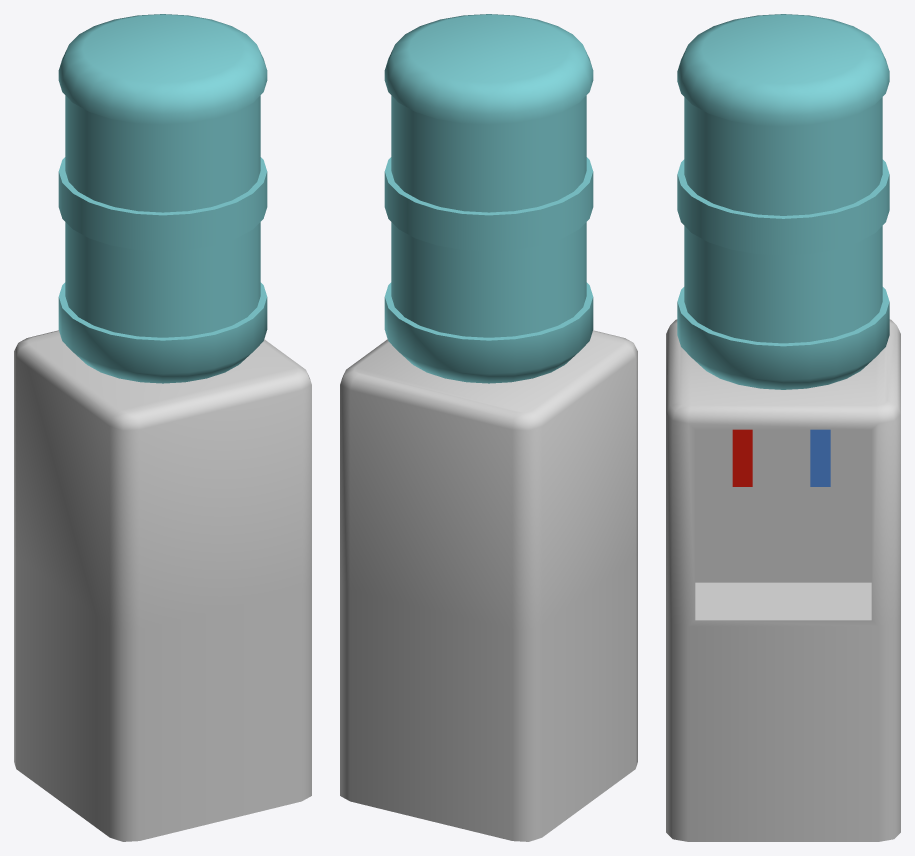
File: water_cooler.glb
The picture shows the model from 3 angles, left to right: view 1: azimuth 30°, elevation 25°; view 2: azimuth 150°, elevation 25°; view 3: azimuth 270°, elevation 25°; orthographic projection.
Visible parts, largest first — view 1: water_cooler; view 2: water_cooler; view 3: water_cooler.
Part boxes in pixels (bbox=[...]): water_cooler: bbox=[14, 14, 311, 841]; water_cooler: bbox=[340, 14, 637, 841]; water_cooler: bbox=[666, 14, 900, 841].
Bounding box in the file's own units: 0.9881 × 3.45 × 0.9881.
